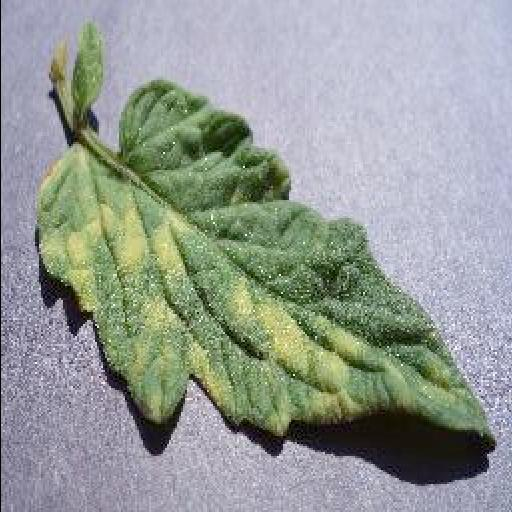disease_tomato: (46, 86, 494, 452)
